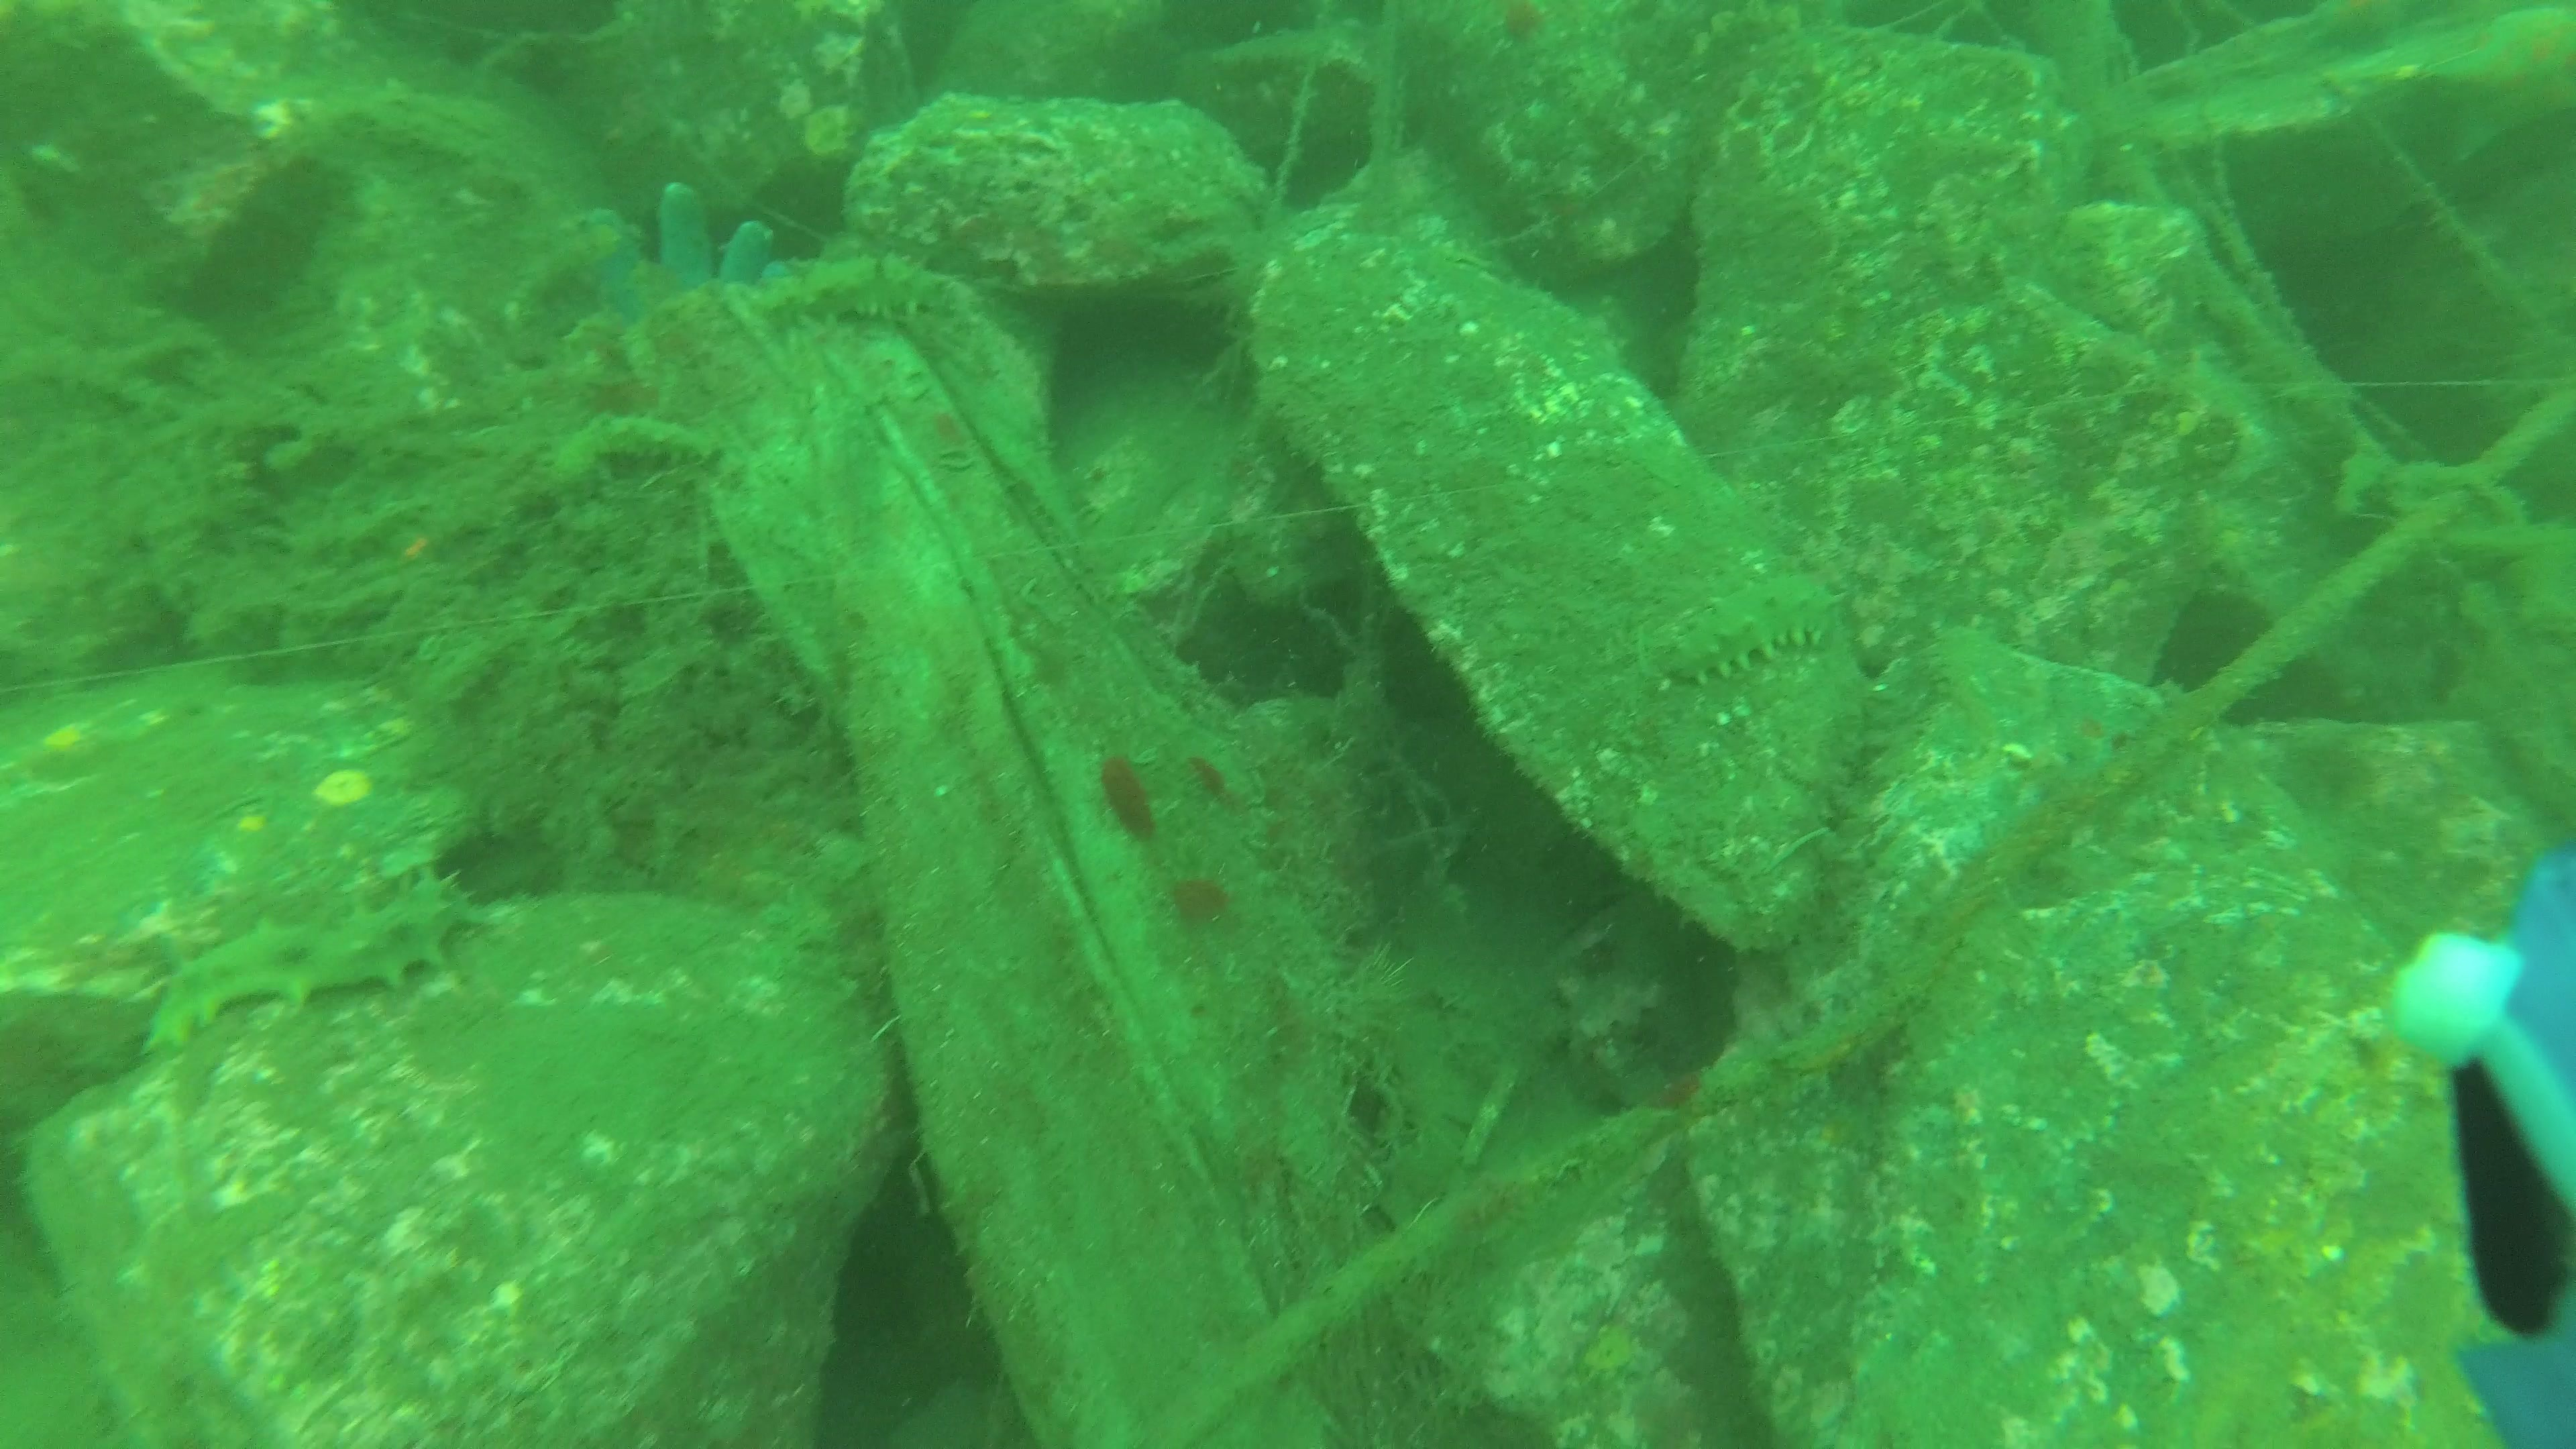holothurian: (136, 867, 476, 1062), (1635, 570, 1858, 697), (741, 242, 959, 336), (580, 400, 727, 478)
starfish: (2417, 5, 2576, 182)
